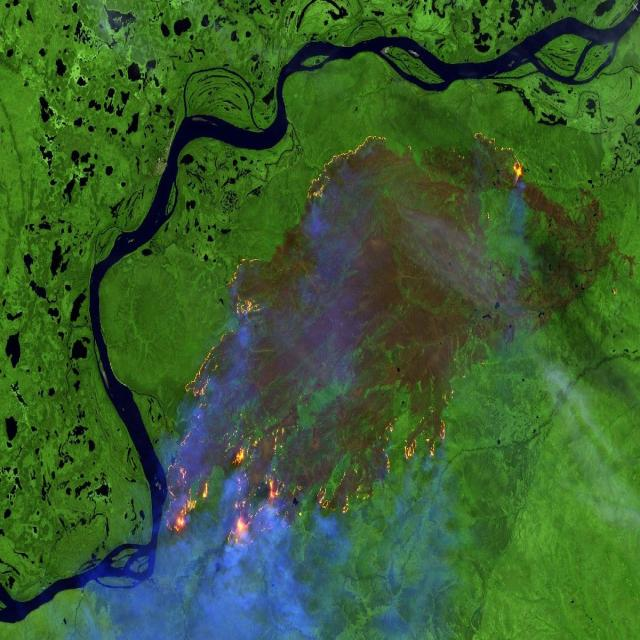fire: (160, 131, 524, 552)
